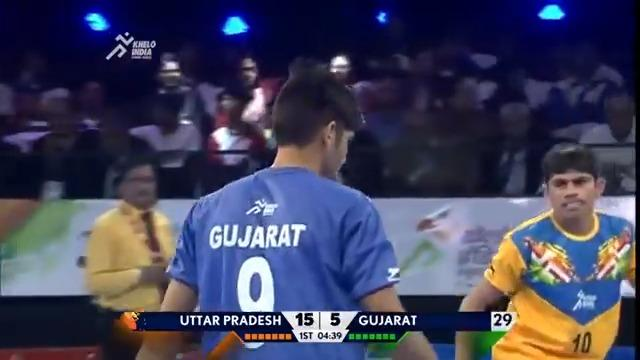Player: (132, 68, 438, 358), (453, 141, 636, 359)
referee: (84, 154, 177, 314)
